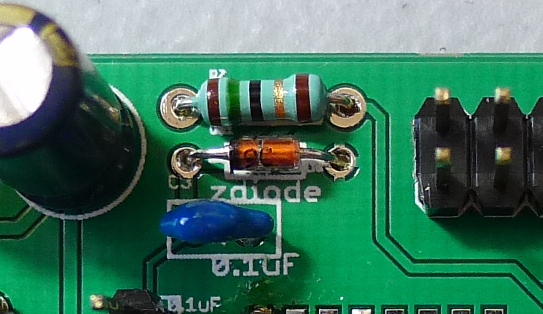capacitor: (1, 2, 146, 211)
resistor: (198, 72, 328, 126)
